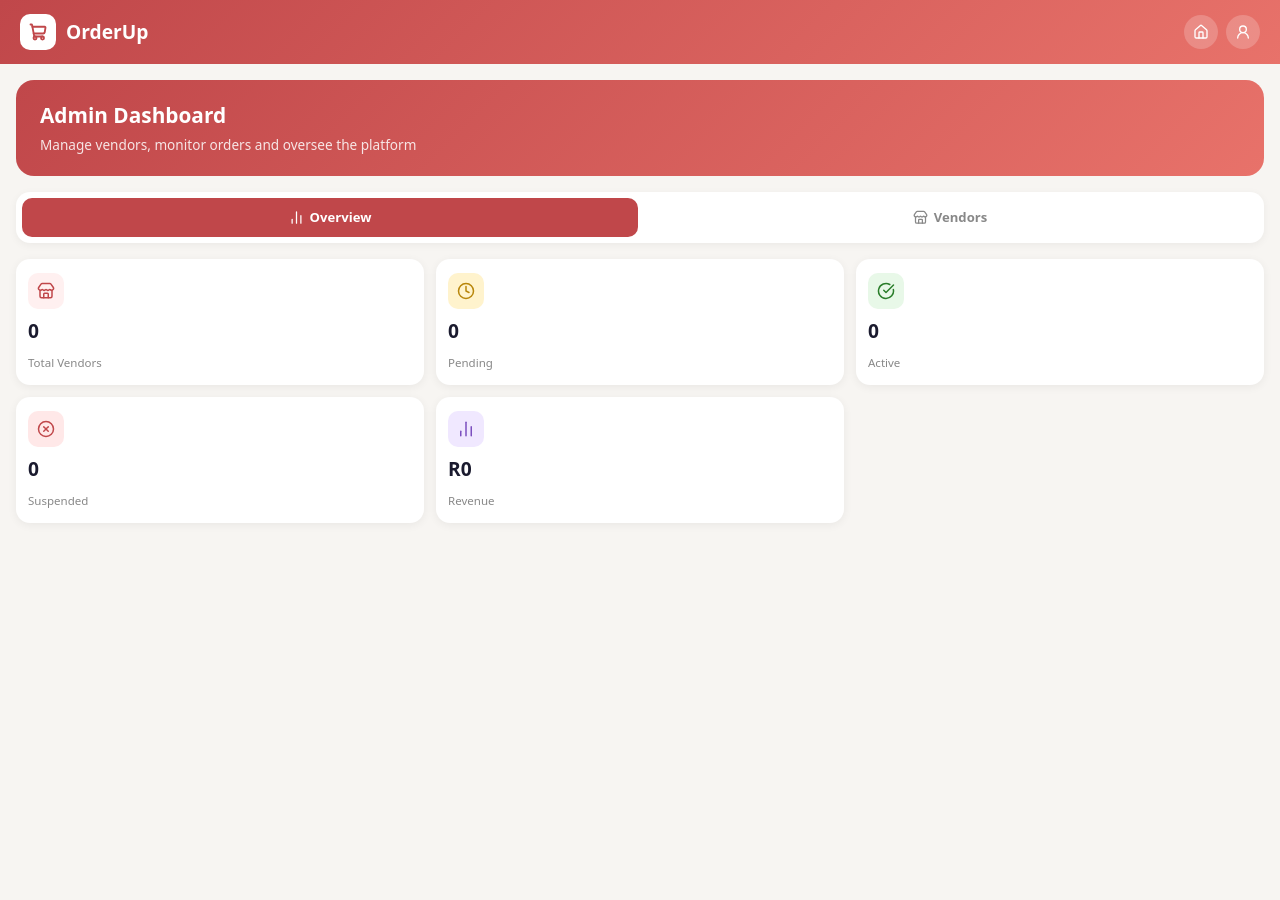
AdminDashboard › switches to Vendors tab and shows all vendors
expect the text "Total Vendors" is shown: met, box x1=28 y1=355 x2=102 y2=370
Click the button "Vendors": {"x": 950, "y": 217} x1=642 y1=198 x2=1258 y2=237
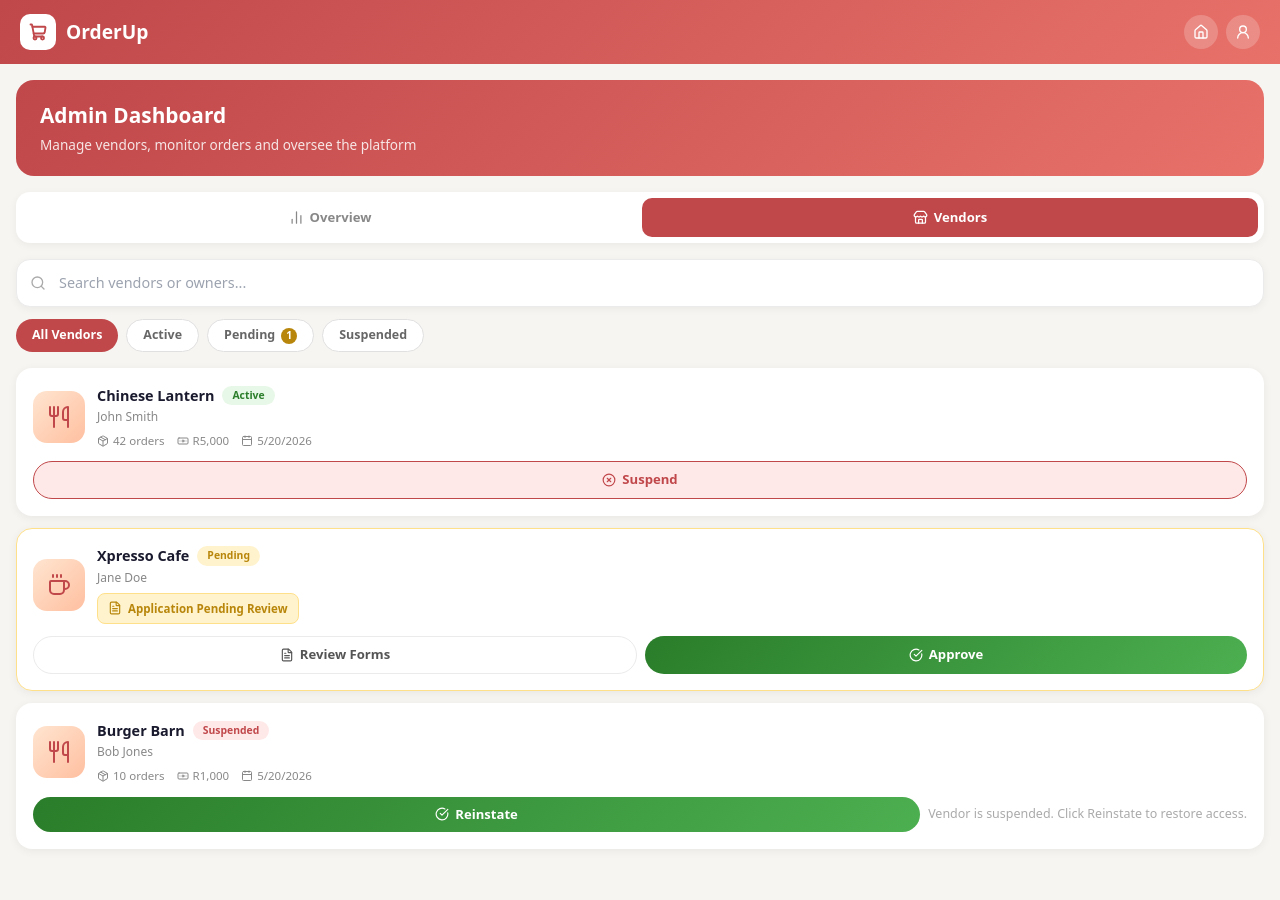
expect the heading "Chinese Lantern" is shown: met, box x1=97 y1=385 x2=214 y2=406
expect the heading "Xpresso Cafe" is shown: met, box x1=97 y1=545 x2=189 y2=567
expect the heading "Burger Barn" is shown: met, box x1=97 y1=720 x2=185 y2=741
